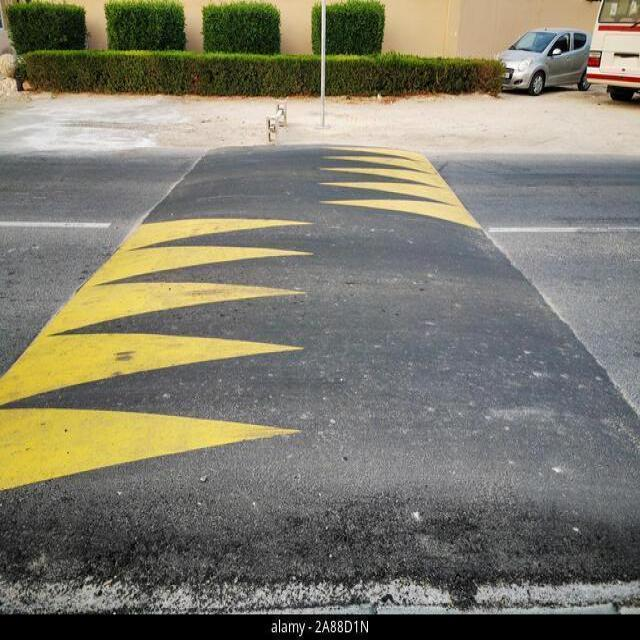Speed_Breaker: (0, 134, 640, 618), (1, 141, 640, 617)
